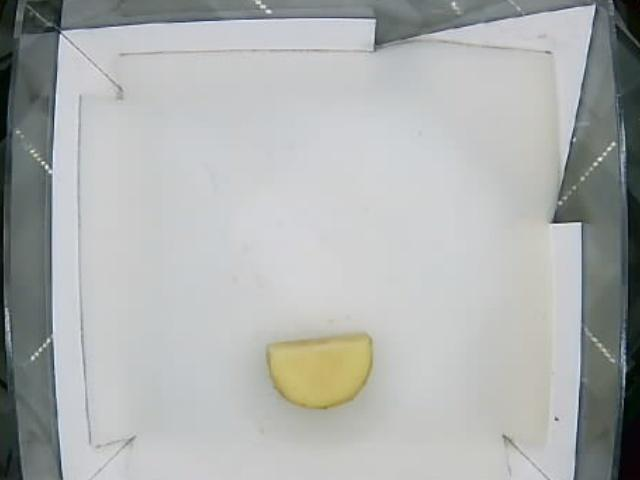Potato: (265, 330, 376, 409)
